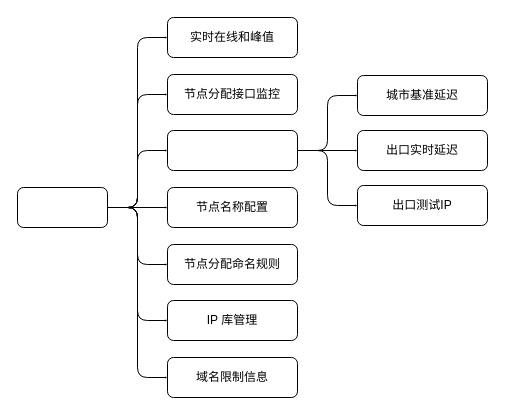
Some shapes in this 505 by 415 pixel diagram are drawn without their labels. The centre of each missing label's shape, as x and y in pixels:
信息管理: (62,207)
延迟配置: (232,150)
